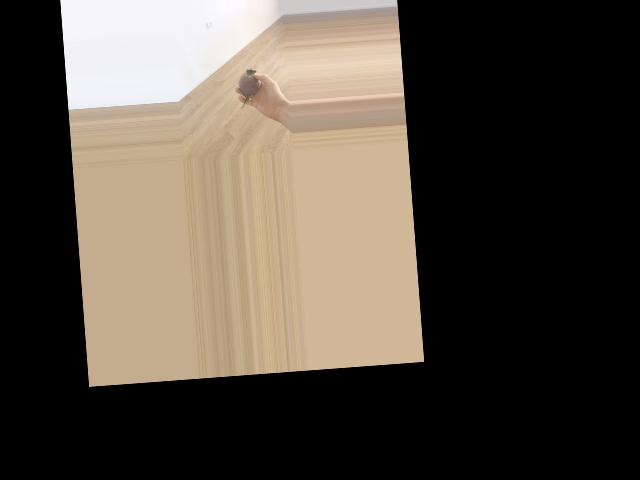beet: (236, 68, 262, 108)
